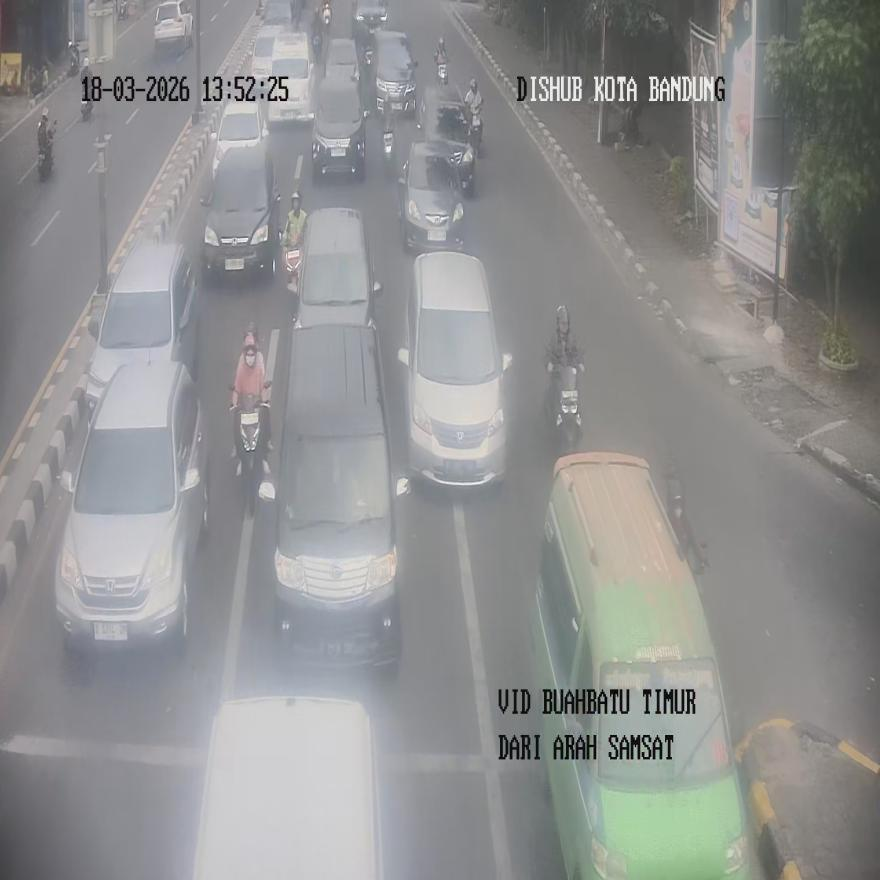Motor: (527, 452, 755, 878), (258, 320, 409, 668), (54, 359, 209, 652), (191, 695, 384, 878), (398, 250, 512, 486), (86, 240, 198, 420), (290, 206, 380, 327), (200, 145, 279, 278), (311, 39, 368, 180)
Truk: (230, 382, 272, 517), (548, 365, 581, 454), (447, 143, 475, 198), (381, 95, 395, 176), (37, 117, 54, 180), (283, 234, 301, 293), (434, 38, 448, 85), (67, 41, 80, 77), (321, 2, 331, 36)
